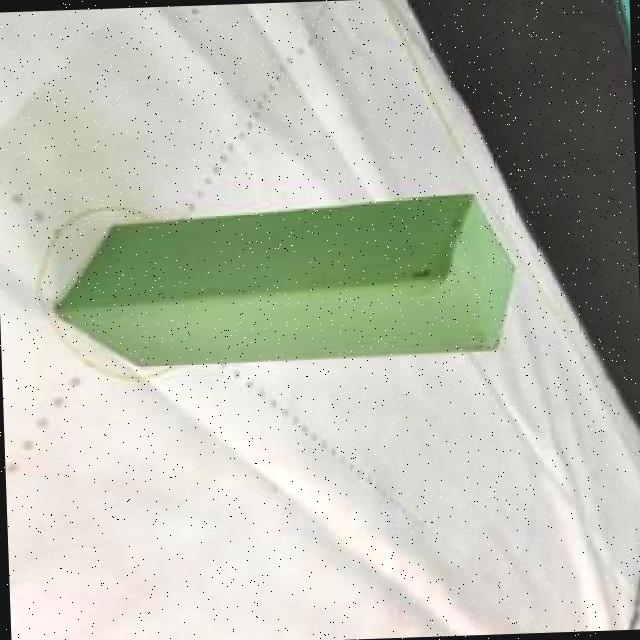greenbox: (44, 192, 520, 372)
